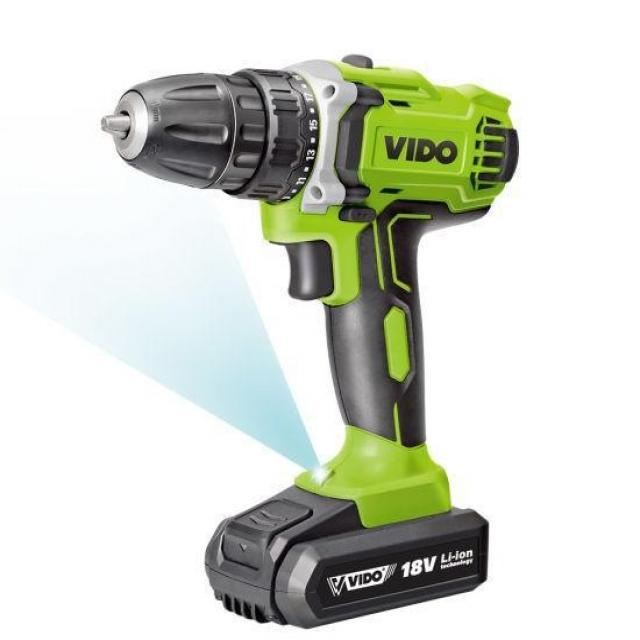drill: (100, 53, 520, 630)
